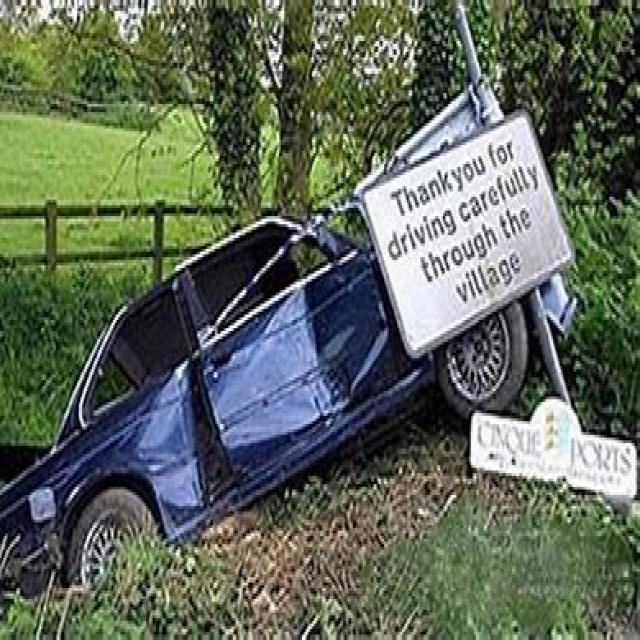Accident: (32, 167, 414, 582)
